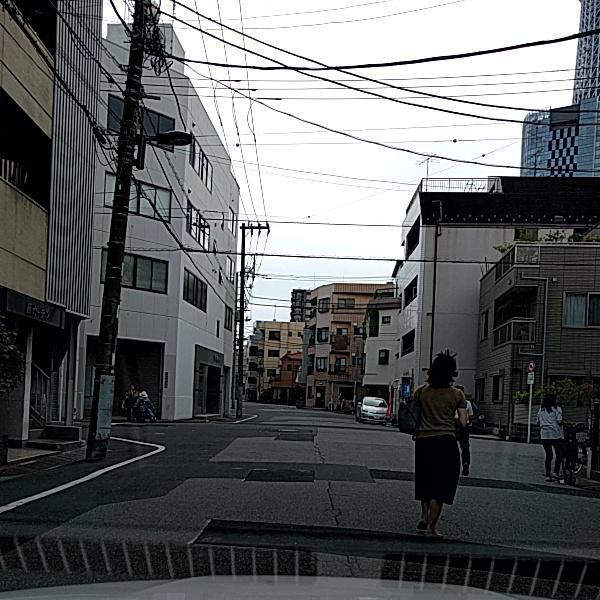D00: (324, 476, 341, 527), (435, 514, 473, 535), (311, 440, 326, 463)
